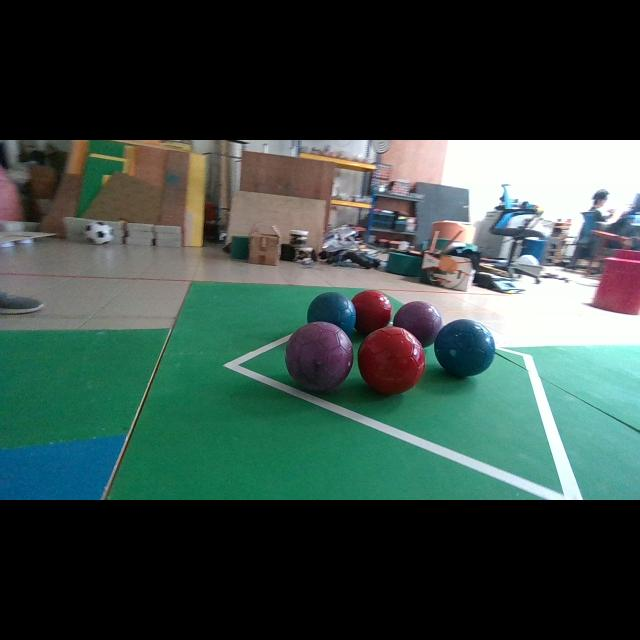B: (434, 320, 495, 376), (308, 292, 356, 335)
P: (285, 321, 354, 391), (394, 301, 441, 347)
R: (358, 326, 425, 394), (351, 290, 392, 334)
